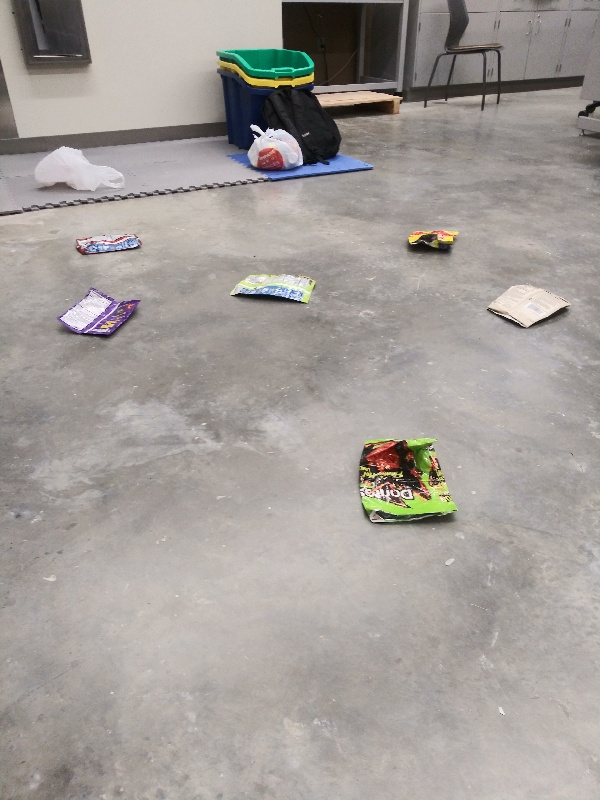bag: (357, 435, 463, 527), (57, 286, 145, 341), (485, 278, 577, 330), (229, 271, 319, 304), (71, 230, 146, 257), (402, 225, 462, 254)
